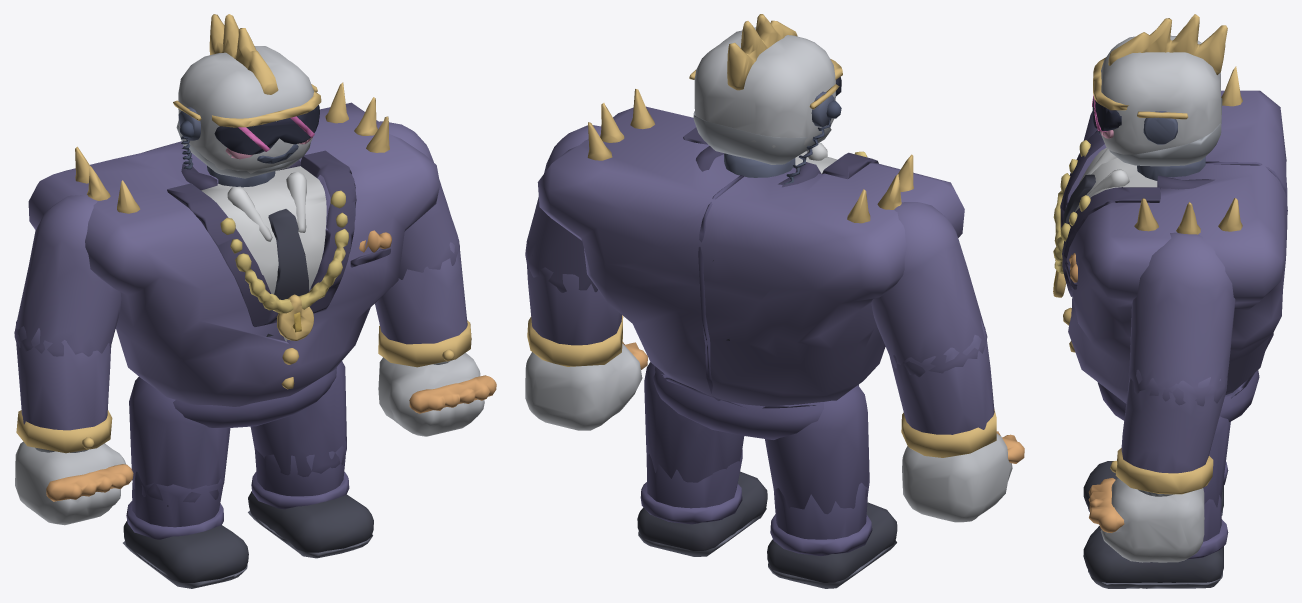
File: bouncer_elite.glb
3 views of the same model, side by side, from view 1: azimuth 30°, elevation 25°; view 2: azimuth 150°, elevation 25°; view 3: azimuth 270°, elevation 25° (orthographic). The views are drawn at different scales.
Parts seen in each view (by area): view 1: torso, fore_r, fore_l, head, arm_r, shin_r, shin_l, leg_r, leg_l, chain, arm_l, shades (+2 smaller); view 2: torso, head, fore_r, fore_l, arm_r, shin_r, shin_l, leg_r, leg_l, arm_l; view 3: torso, fore_l, head, arm_l, shin_l, chain, shades, leg_l, knuck_l_glow, shin_r.
Boxes of the visible parts, x1,y1,x2,y2 form: torso: (28,82,440,427); fore_r: (15,321,126,525); fore_l: (375,235,484,436); head: (176,14,313,178); arm_r: (14,195,121,356); shin_r: (123,471,248,588); shin_l: (248,441,373,558); leg_r: (129,377,230,506); leg_l: (250,361,346,476); chain: (220,190,349,340); arm_l: (376,121,459,279); shades: (173,84,321,154); torso: (537,89,964,439); head: (693,14,841,184); fore_r: (889,321,1012,522); fore_l: (525,238,642,430); arm_r: (871,202,987,377); shin_r: (767,478,897,588); shin_l: (637,449,767,556); leg_r: (765,385,869,514); leg_l: (644,362,744,482); arm_l: (525,125,601,292); torso: (1060,66,1287,421); fore_l: (1100,369,1227,562); head: (1097,14,1227,166); arm_l: (1128,232,1235,406); shin_l: (1083,495,1228,588); chain: (1053,140,1090,297); shades: (1092,57,1188,130); leg_l: (1203,416,1230,507); knuck_l_glow: (1088,478,1124,532); shin_r: (1083,461,1228,515).
Bounding box in the file's own units: 1.5 × 1.67 × 0.6714.
